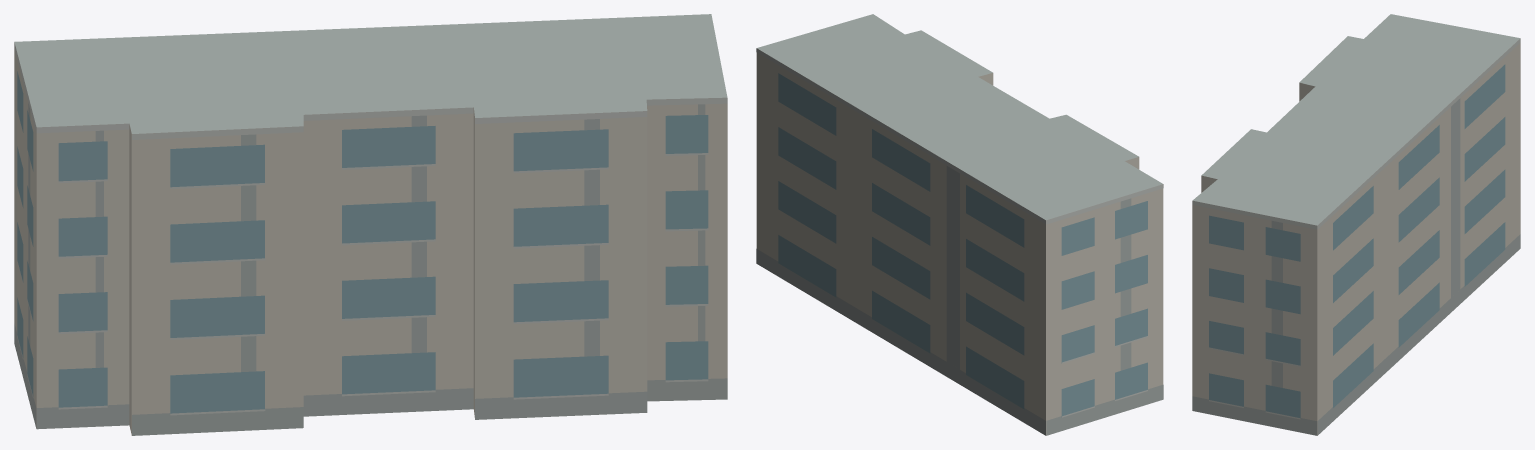
File: survey-upis-32554796.glb
3 renders of one model, left to right at view 1: azimuth 30°, elevation 25°; view 2: azimuth 150°, elevation 25°; view 3: azimuth 270°, elevation 25°, orthographic. The views are drawn at different scales.
Parts seen in each view (by area): view 1: survey-upis-32554796.tmp; view 2: survey-upis-32554796.tmp; view 3: survey-upis-32554796.tmp.
Part boxes in pixels (x1,y1,x2,y2): survey-upis-32554796.tmp: [14, 14, 727, 435]; survey-upis-32554796.tmp: [756, 14, 1163, 435]; survey-upis-32554796.tmp: [1192, 14, 1520, 435].
Bounding box in the file's own units: 26.34 × 12.2 × 17.27.
